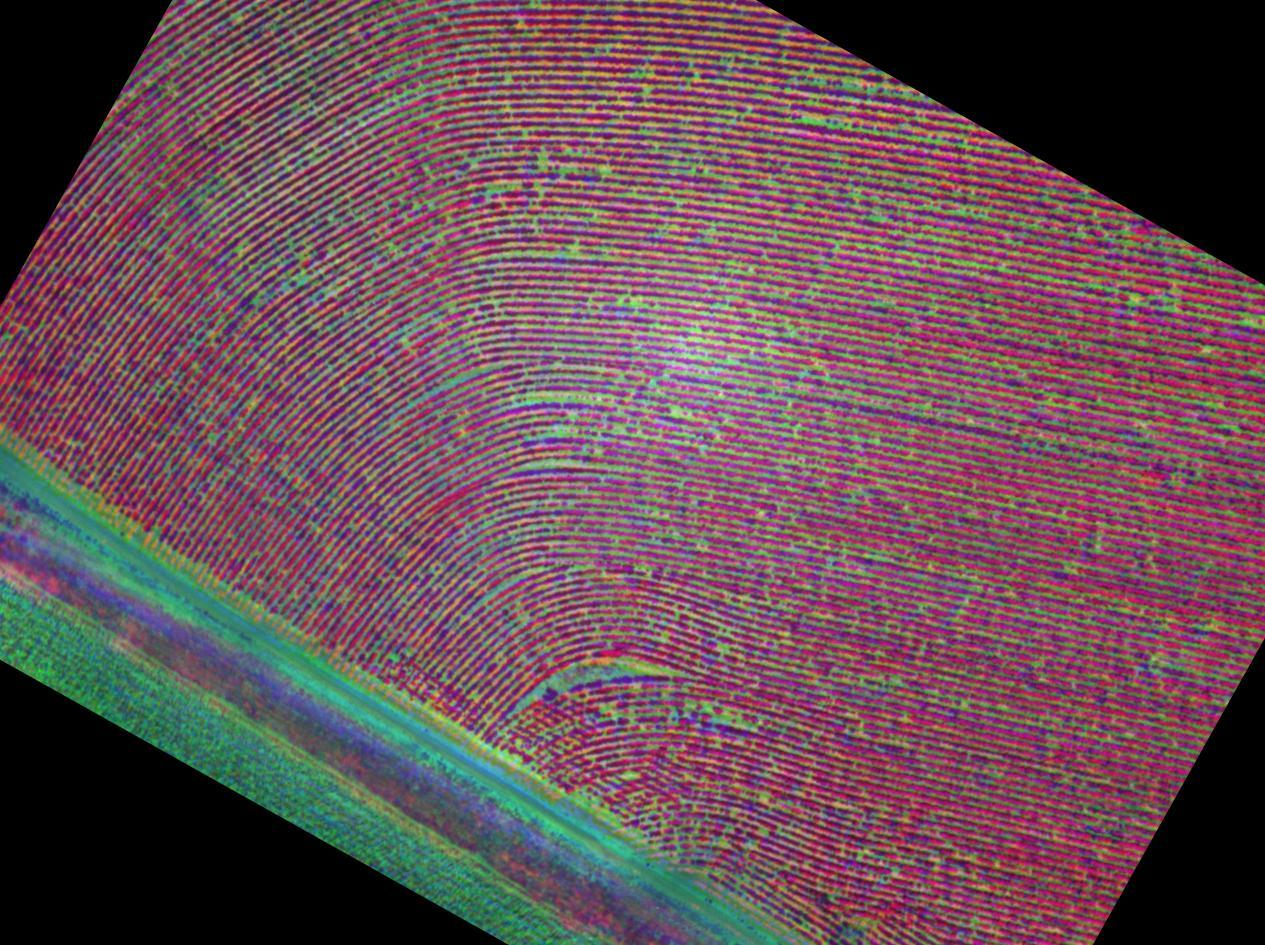dc: (676, 88, 860, 197), (488, 355, 601, 459), (518, 640, 648, 725), (183, 163, 318, 243), (263, 33, 365, 132)
